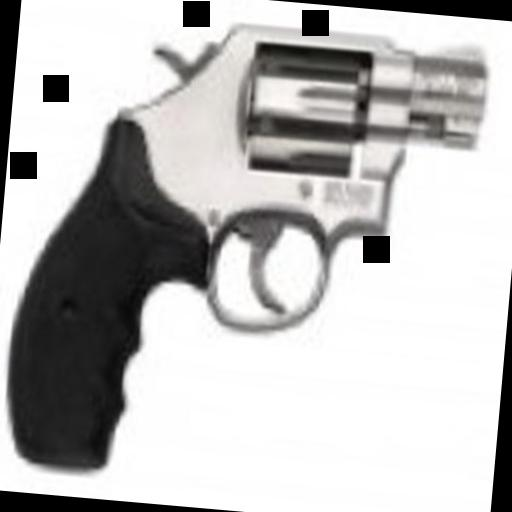Handgun: (0, 3, 485, 502)
